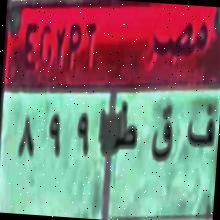8: (15, 108, 40, 169)
9: (73, 112, 94, 168), (46, 108, 66, 160)
Taa: (115, 102, 140, 165)
faa: (186, 96, 218, 162)
qaaf: (149, 101, 178, 172)
